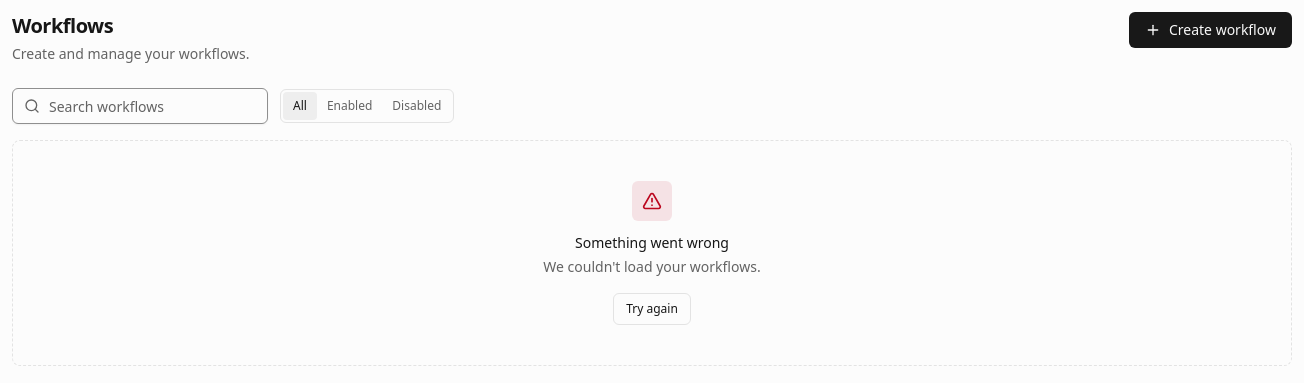
WorkflowsPage list › shows an error with a retry
This screenshot has width=1304, height=383.
What coordinates should you click on to do the following:
click the button "Try again"
I would click on:
 (652, 309)
Its box is top-left (613, 293), bottom-right (691, 325).
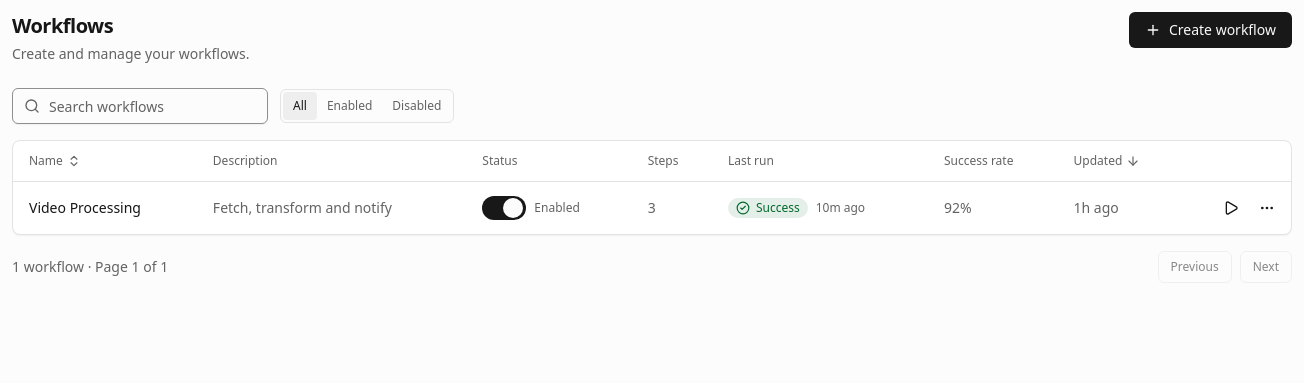
Now the link "Video Processing" is shown, box top-left (29, 198), bottom-right (141, 217)
